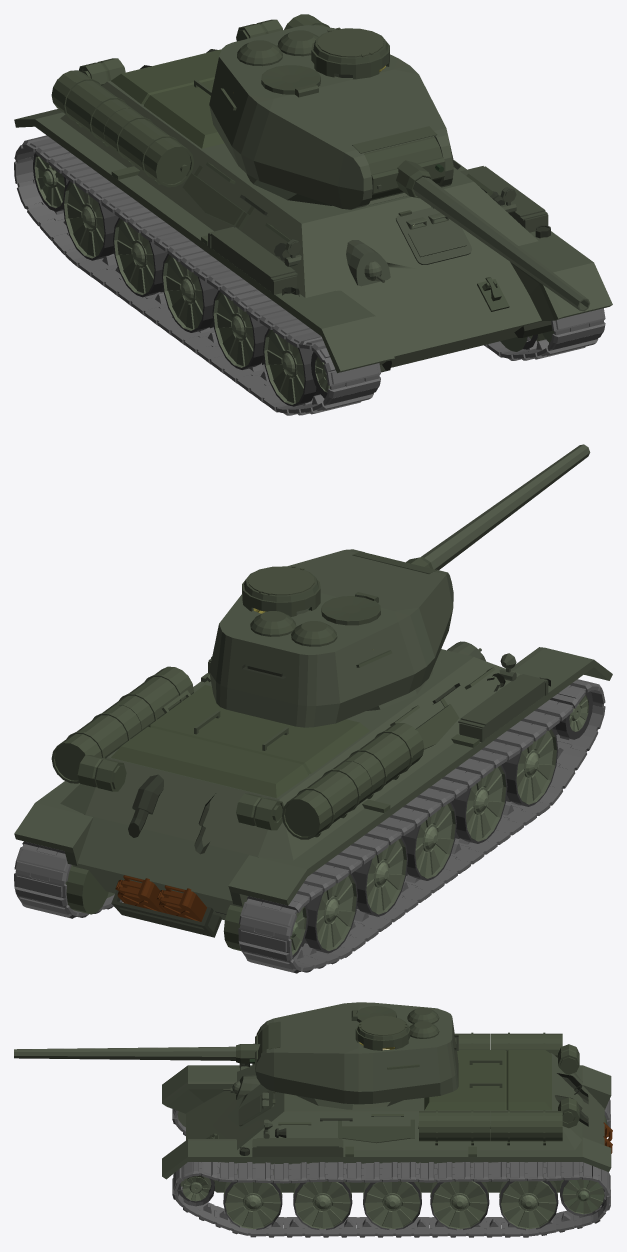
3 views of the same model, one above another, from view 1: azimuth 30°, elevation 25°; view 2: azimuth 150°, elevation 25°; view 3: azimuth 270°, elevation 25° (orthographic). The views are drawn at different scales.
Parts seen in each view (by area): view 1: Cuerpo, Torreta, Orugas, Engranes; view 2: Cuerpo, Torreta, Orugas, Engranes; view 3: Cuerpo, Torreta, Engranes, Orugas.
Part boxes in pixels (x1,y1,x2,y2): Cuerpo: (14, 14, 612, 373); Torreta: (209, 25, 589, 311); Orugas: (14, 135, 605, 415); Engranes: (33, 152, 553, 406); Cuerpo: (14, 641, 612, 951); Torreta: (209, 444, 590, 727); Orugas: (14, 679, 605, 973); Engranes: (65, 691, 592, 958); Cuerpo: (162, 1032, 612, 1192); Torreta: (14, 1002, 458, 1109); Engranes: (177, 1111, 606, 1230); Orugas: (172, 1099, 610, 1237).
Size of the model in its own units: 124 by 111 by 338.
